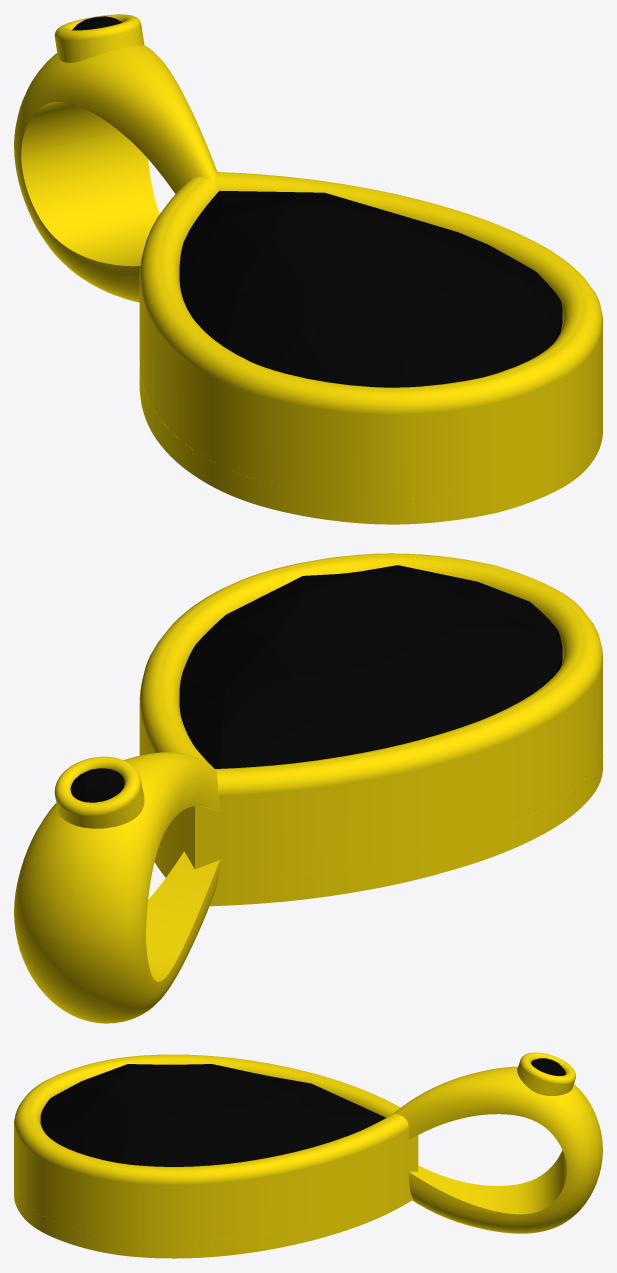
File: pear-pendant-optimized.glb
3 renders of one model, top to bottom at view 1: azimuth 30°, elevation 25°; view 2: azimuth 150°, elevation 25°; view 3: azimuth 270°, elevation 25°, orthographic. The views are drawn at different scales.
Visible parts, largest first — view 1: object 1, Diamond_Round; view 2: object 1, Diamond_Round; view 3: object 1, Diamond_Round.
Boxes of the visible parts, <box> form: object 1: <box>14,14,602,524</box>; Diamond_Round: <box>72,16,562,387</box>; object 1: <box>14,553,602,1023</box>; Diamond_Round: <box>70,565,562,802</box>; object 1: <box>14,1052,602,1258</box>; Diamond_Round: <box>40,1058,565,1166</box>.
Size of the model in its own units: 0.011 by 0.00711 by 0.0222.
